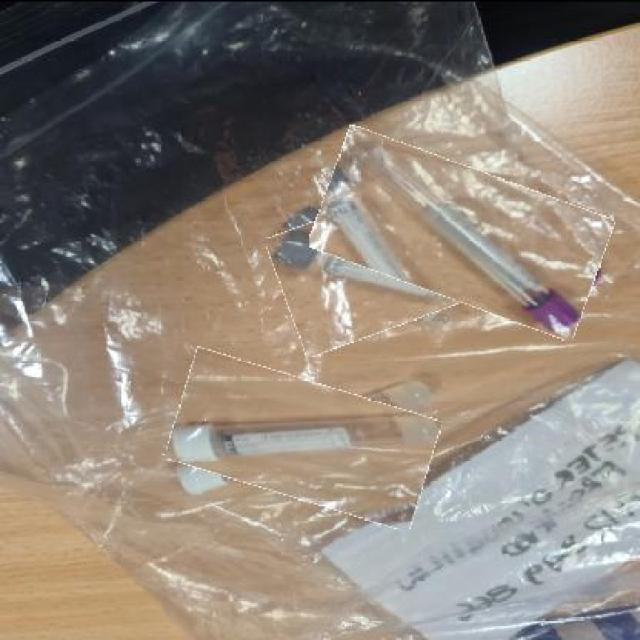Experimental-tube: (313, 146, 609, 319), (169, 363, 437, 512), (272, 191, 463, 344)
